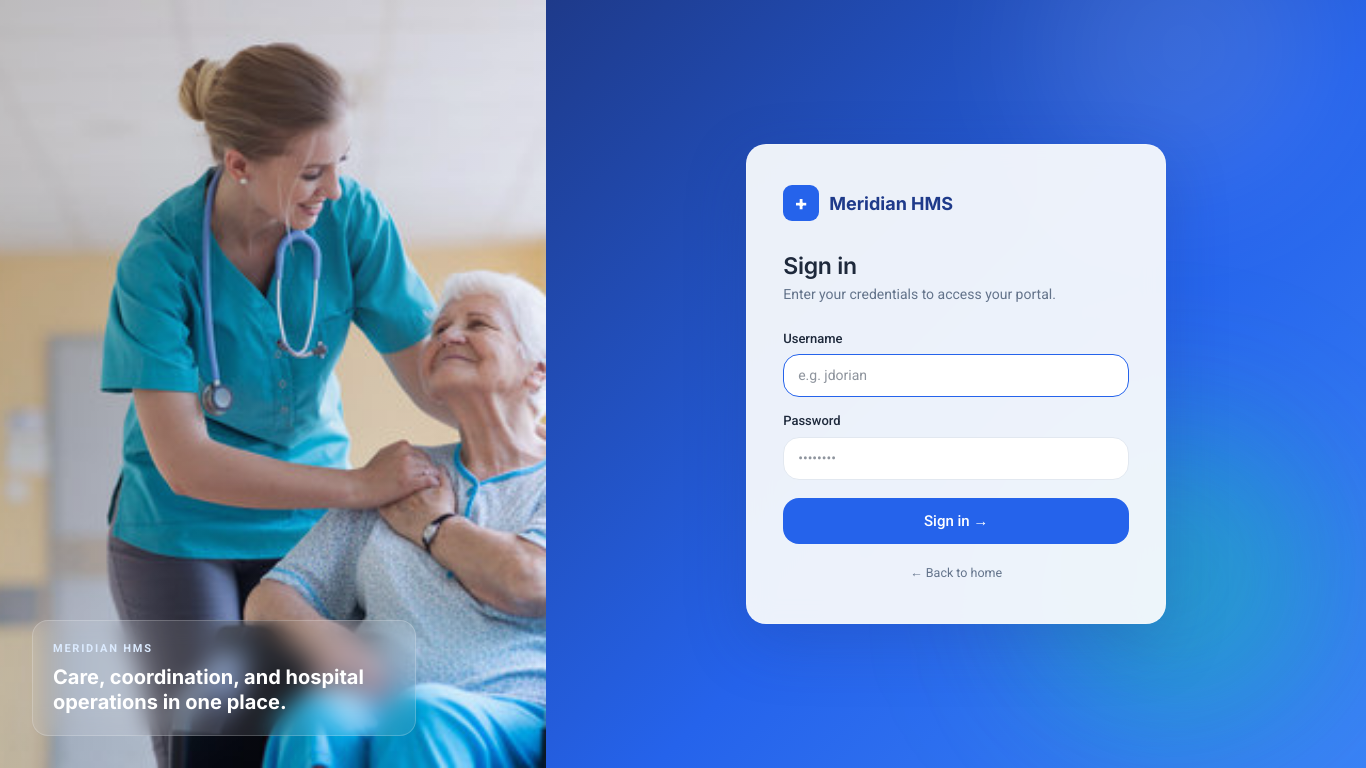
Test: Login › shows an error message when authService.login rejects
In the field with placeholder "e.g. jdorian": (956, 376) x1=783 y1=354 x2=1129 y2=397, type "wrong"
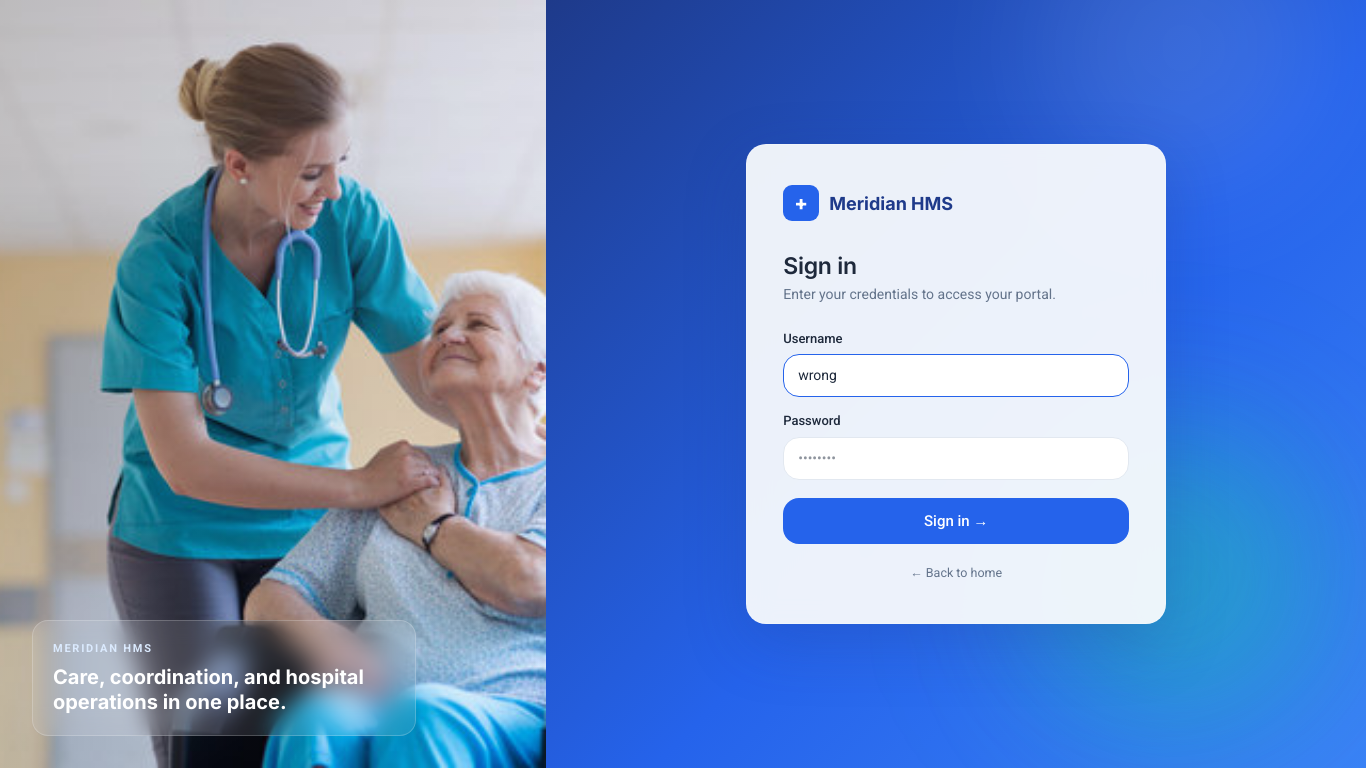
In the password field with placeholder "••••••••": (956, 458) x1=783 y1=437 x2=1129 y2=480, type "wrong"
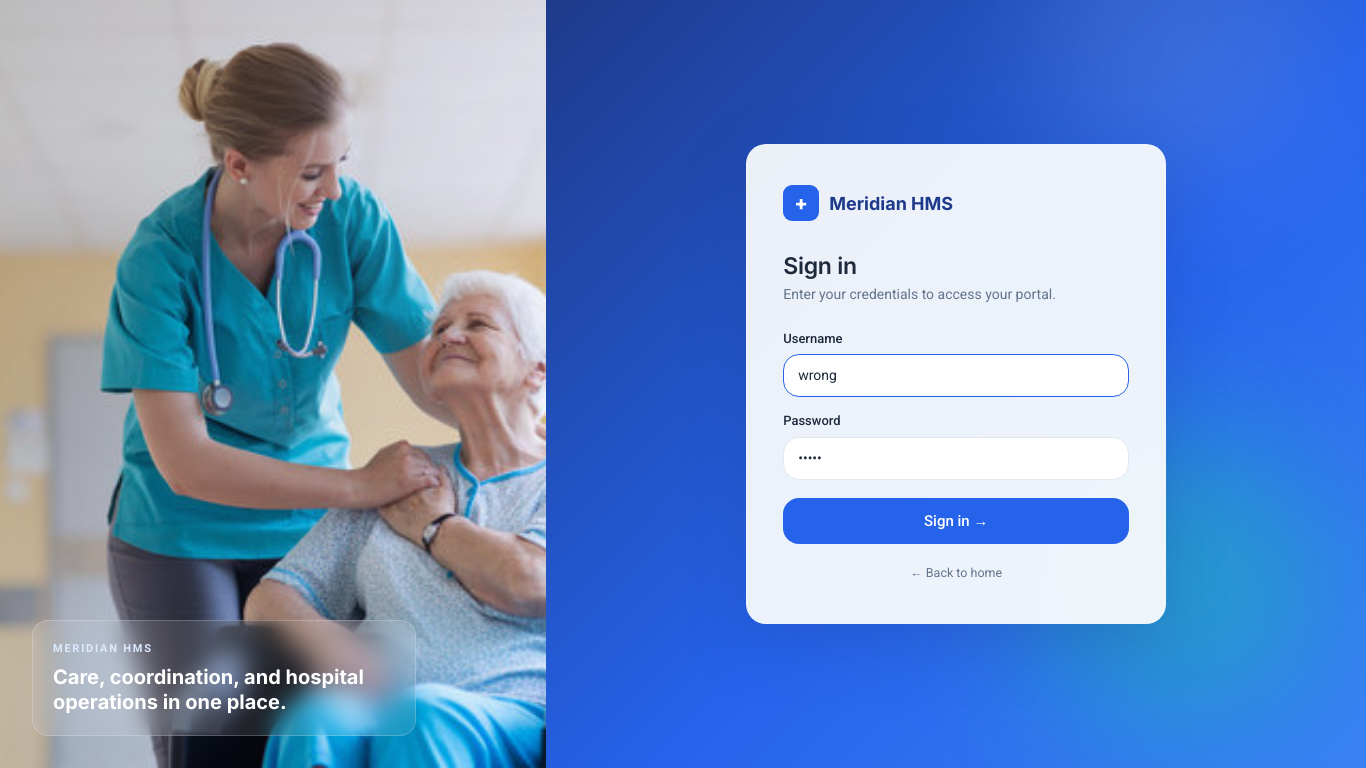
Click the button "Sign in →": (956, 521) x1=783 y1=498 x2=1129 y2=544
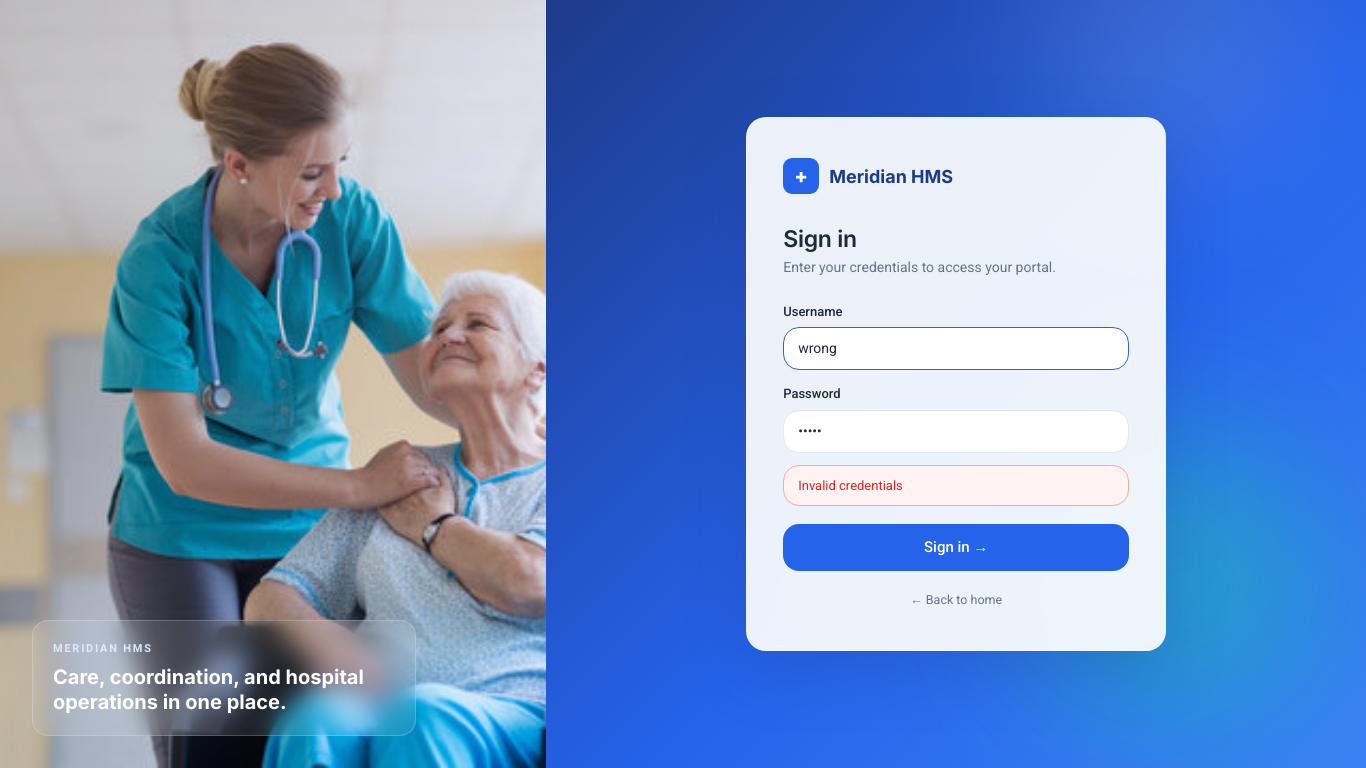
Result: the text "Invalid credentials" is shown at x1=783 y1=465 x2=1129 y2=506
